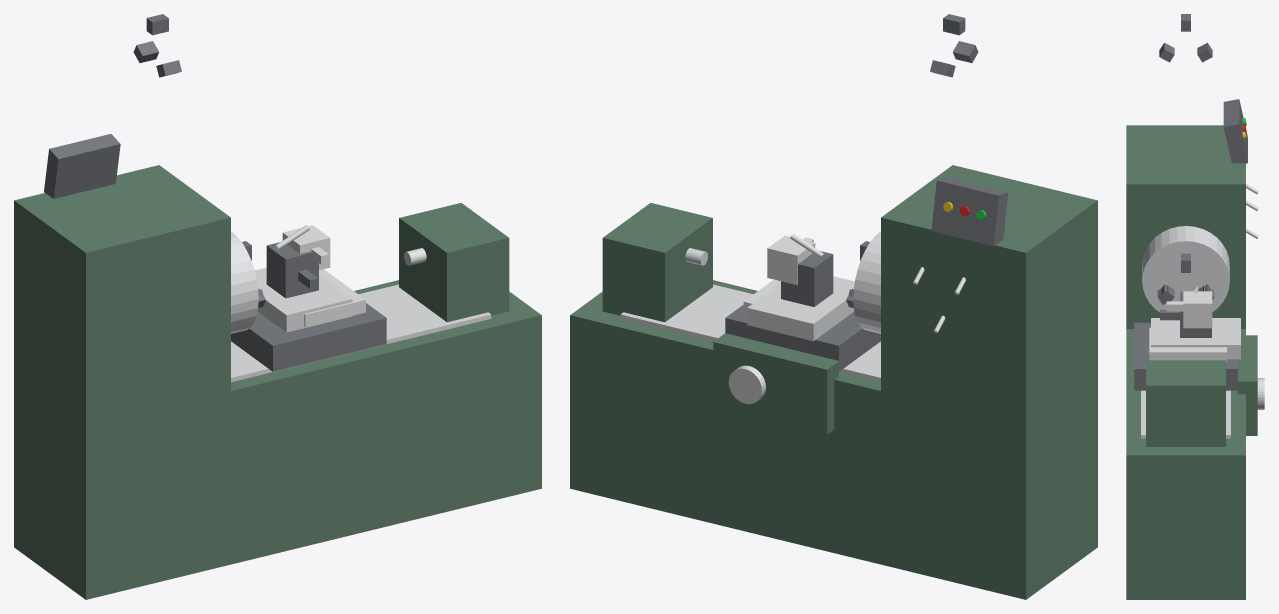
Rendered from станок.fbx.
3 views of the same model, side by side, from view 1: azimuth 30°, elevation 25°; view 2: azimuth 150°, elevation 25°; view 3: azimuth 270°, elevation 25° (orthographic). The views are drawn at different scales.
Visible parts, largest first — view 1: 16K20_Base, Headstock, Tailstock, Lathe_Axis_Z, Steel_Rails.001, Control_Panel.001, Lathe_Axis_X.002, Spindle_Chuck, Tool_Holder.002, Lathe_Axis_X.001, Tool_Holder.001; view 2: 16K20_Base, Headstock, Tailstock, Куб.003, Control_Panel.001, Steel_Rails.001, Lathe_Axis_X.002, Lathe_Axis_Z, Spindle_Chuck, Tool_Holder.002, Tool_Holder.001, Цилиндр.001; view 3: 16K20_Base, Headstock, Tailstock, Spindle_Chuck, Lathe_Axis_X.002, Куб.003, Lathe_Axis_Z, Control_Panel.001, Lathe_Axis_X.001, Tool_Holder.001, Steel_Rails.001, Tool_Holder.002 (+3 smaller).
Boxes of the visible parts, box(x1,y1,x2,y2) form: 16K20_Base: box(14, 280, 541, 599); Headstock: box(14, 165, 230, 426); Tailstock: box(399, 203, 509, 322); Lathe_Axis_Z: box(231, 303, 386, 371); Steel_Rails.001: box(231, 284, 491, 382); Control_Panel.001: box(44, 134, 120, 198); Lathe_Axis_X.002: box(254, 267, 352, 332); Spindle_Chuck: box(231, 231, 258, 333); Tool_Holder.002: box(266, 242, 318, 298); Lathe_Axis_X.001: box(304, 269, 365, 327); Tool_Holder.001: box(282, 225, 330, 270); 16K20_Base: box(570, 280, 1097, 599); Headstock: box(881, 165, 1097, 426); Tailstock: box(602, 203, 712, 322); Куб.003: box(713, 333, 838, 434); Control_Panel.001: box(931, 177, 1008, 246); Steel_Rails.001: box(620, 284, 880, 382); Lathe_Axis_X.002: box(747, 276, 854, 341); Lathe_Axis_Z: box(725, 305, 880, 371); Spindle_Chuck: box(853, 231, 880, 333); Tool_Holder.002: box(781, 251, 833, 306); Tool_Holder.001: box(767, 235, 815, 285); Цилиндр.001: box(728, 366, 765, 404); 16K20_Base: box(1126, 329, 1245, 599); Headstock: box(1126, 125, 1245, 328); Tailstock: box(1146, 360, 1225, 446); Spindle_Chuck: box(1142, 226, 1229, 312); Lathe_Axis_X.002: box(1151, 318, 1240, 359); Куб.003: box(1238, 335, 1257, 435); Lathe_Axis_Z: box(1134, 322, 1237, 390); Control_Panel.001: box(1223, 99, 1247, 163); Lathe_Axis_X.001: box(1149, 327, 1226, 362); Tool_Holder.001: box(1183, 291, 1212, 328); Steel_Rails.001: box(1141, 390, 1230, 438); Tool_Holder.002: box(1180, 292, 1211, 337).
Size of the model in its own units: 220 by 244 by 69.5.
